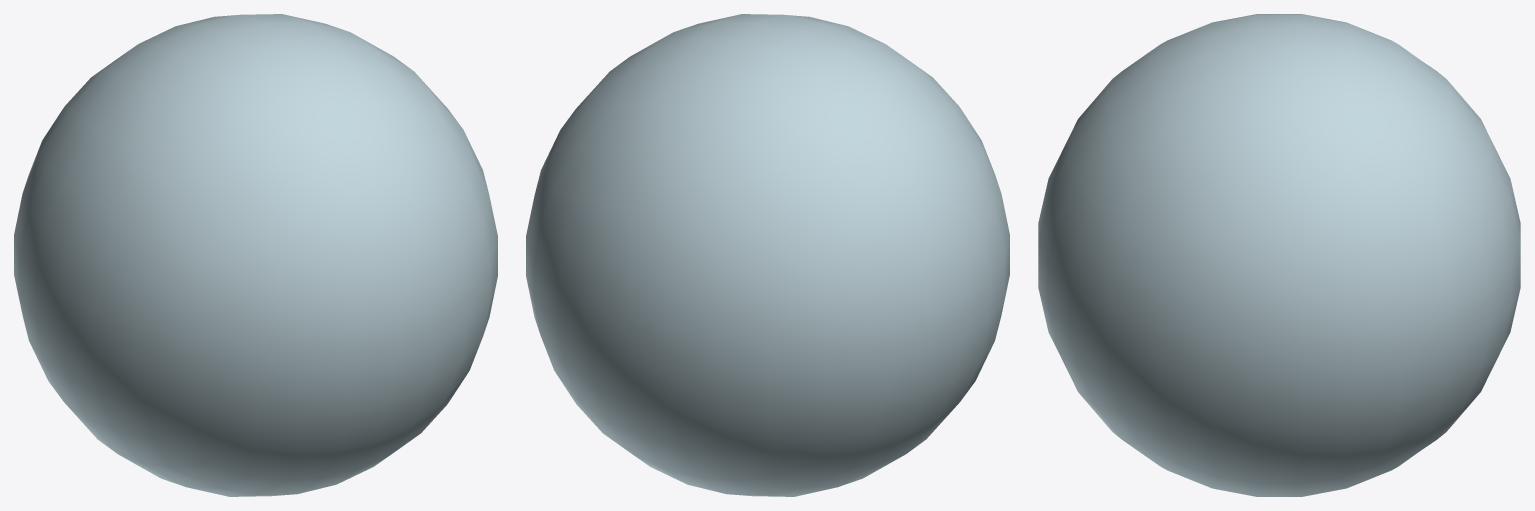
Rendered from 10_Ne_BaS.fbx.
3 renders of one model, left to right at view 1: azimuth 30°, elevation 25°; view 2: azimuth 150°, elevation 25°; view 3: azimuth 270°, elevation 25°, orthographic.
Parts seen in each view (by area): view 1: NE; view 2: NE; view 3: NE.
Boxes of the visible parts, box(x1,y1,x2,y2) form: NE: box(14, 14, 497, 496); NE: box(526, 14, 1009, 496); NE: box(1038, 14, 1520, 496).
Size of the model in its own units: 68.3 by 68.3 by 68.3.
